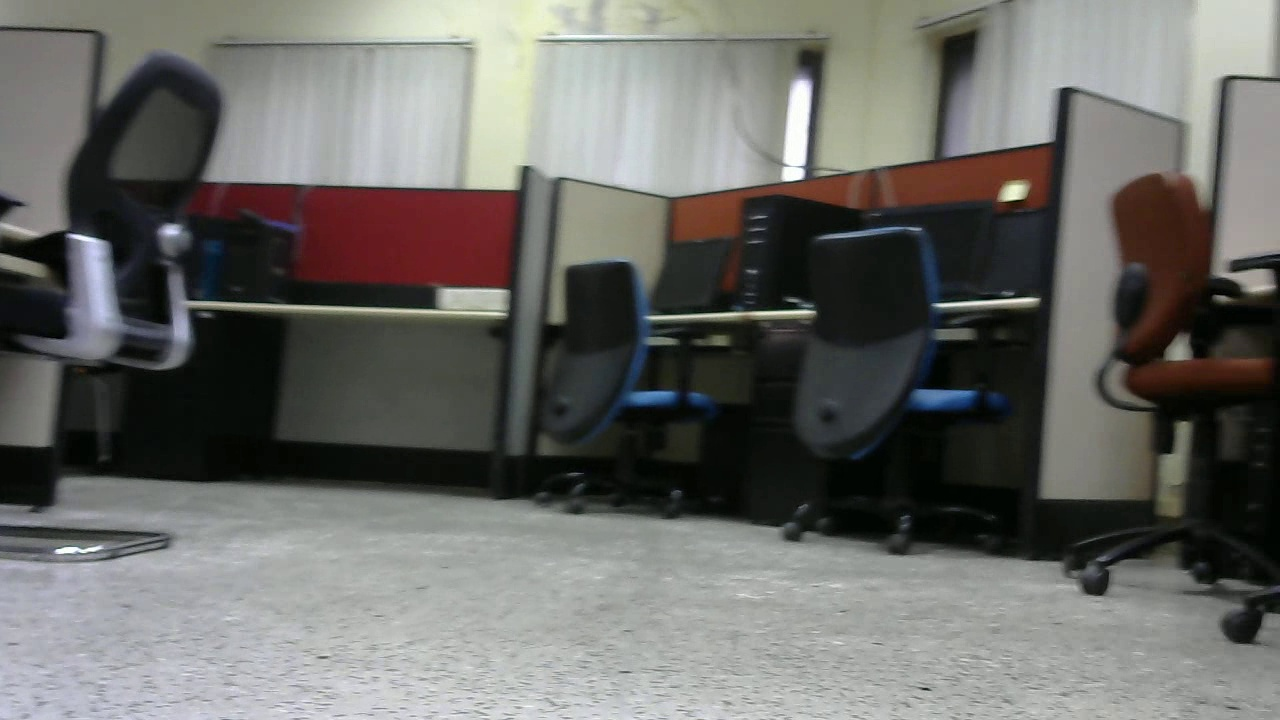chair: (1, 38, 229, 565), (1063, 171, 1280, 642), (772, 212, 1017, 561), (523, 249, 727, 525)
